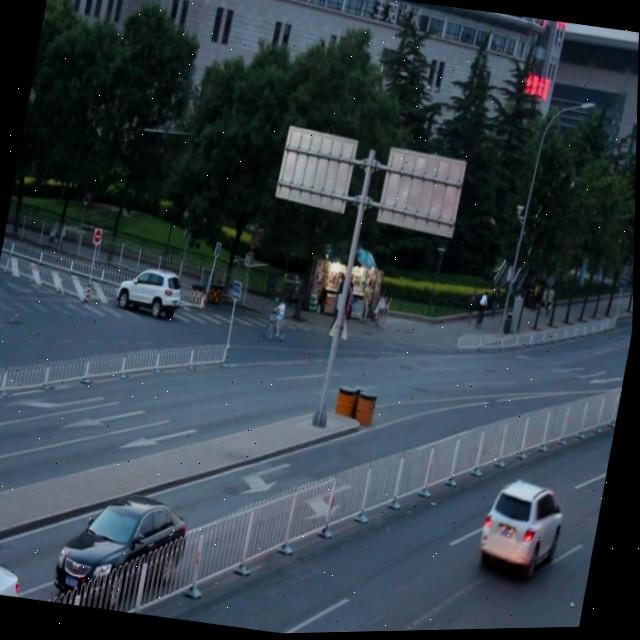car: (51, 480, 198, 608), (475, 475, 571, 581), (115, 262, 186, 323), (0, 536, 32, 598)
